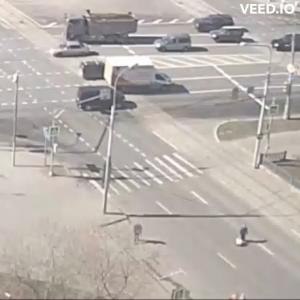car: (105, 58, 179, 90), (69, 13, 142, 43), (76, 85, 139, 117), (47, 43, 98, 62), (212, 27, 257, 46), (197, 16, 235, 35), (158, 34, 194, 54), (273, 34, 300, 54)
